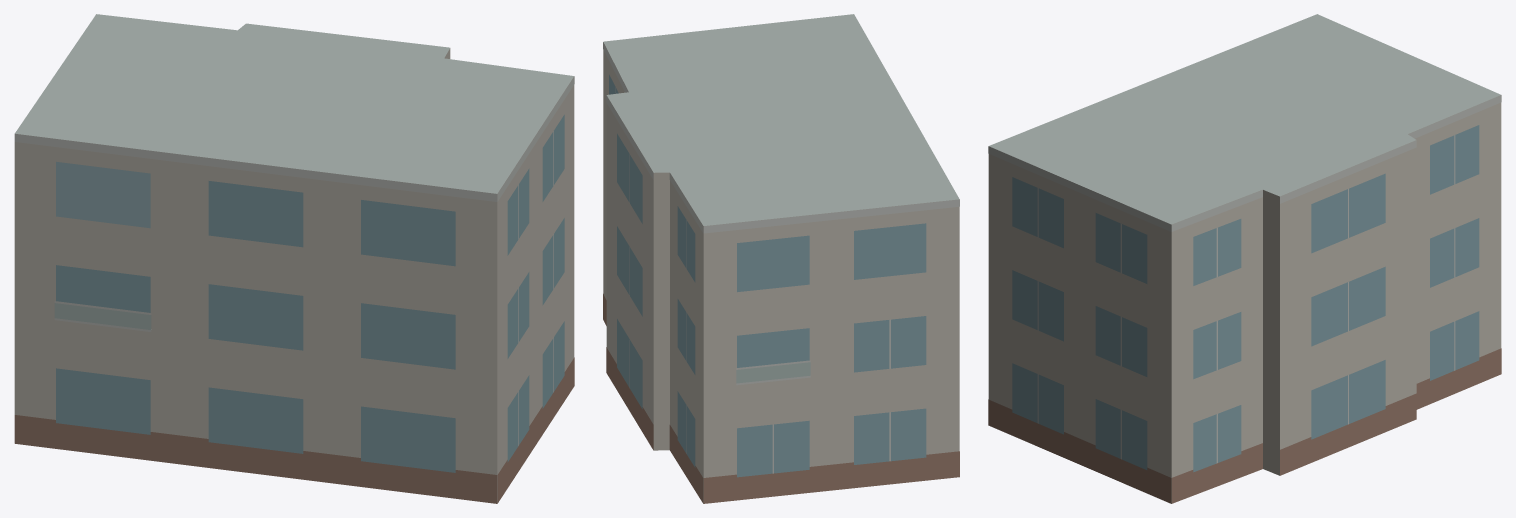
File: survey-upis-32710077.glb
The picture shows the model from 3 angles, left to right: view 1: azimuth 30°, elevation 25°; view 2: azimuth 150°, elevation 25°; view 3: azimuth 270°, elevation 25°; orthographic projection. The views are drawn at different scales.
Parts seen in each view (by area): view 1: survey-upis-32710077.tmp; view 2: survey-upis-32710077.tmp; view 3: survey-upis-32710077.tmp.
Part boxes in pixels (left/top/right/bottom): survey-upis-32710077.tmp: left=14, top=14, right=574, bottom=503; survey-upis-32710077.tmp: left=603, top=14, right=959, bottom=503; survey-upis-32710077.tmp: left=988, top=14, right=1501, bottom=503.
Size of the model in its own units: 14.8 by 9.15 by 15.23.
